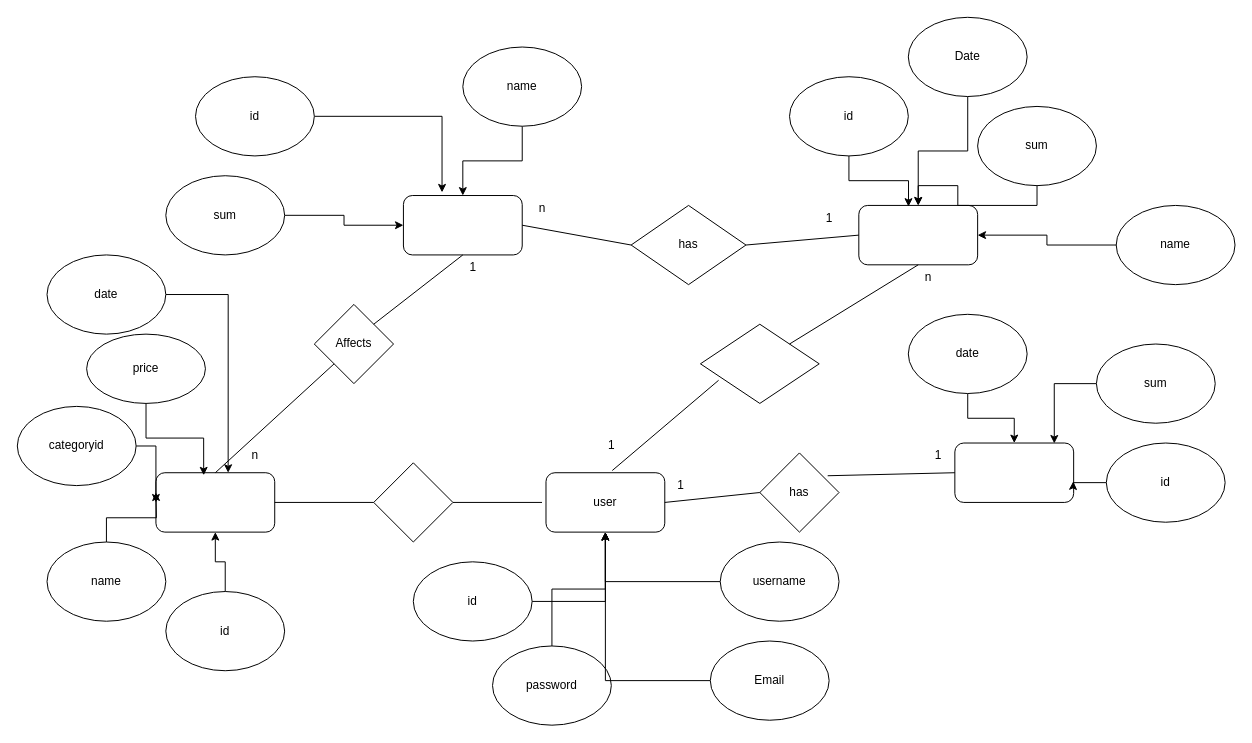
This 1252x743 diagram has some shape labels left out. The box of each missing label's shape, as (x1, y1, x2, y2) in pixels:
Balance: (954, 442, 1074, 502)
Budget: (858, 204, 978, 265)
Category: (402, 195, 522, 255)
Creates: (699, 323, 819, 403)
Makes: (373, 462, 453, 542)
Purchase: (155, 472, 275, 532)
